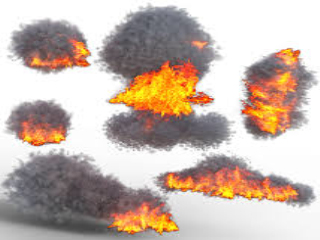fire: (247, 50, 302, 137), (166, 170, 300, 203), (121, 70, 214, 114), (26, 43, 94, 74), (116, 207, 180, 234), (21, 124, 63, 144)
smoke: (7, 155, 124, 222), (110, 10, 214, 69), (109, 112, 238, 151), (13, 17, 84, 48), (12, 99, 68, 125), (187, 153, 256, 172)
